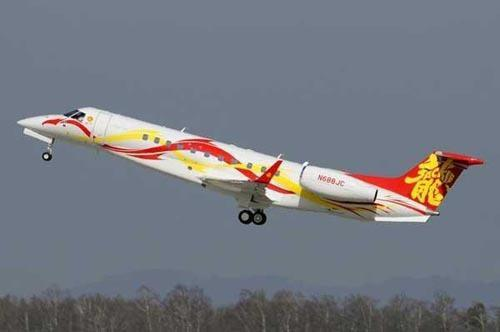airplane: (12, 103, 488, 237)
